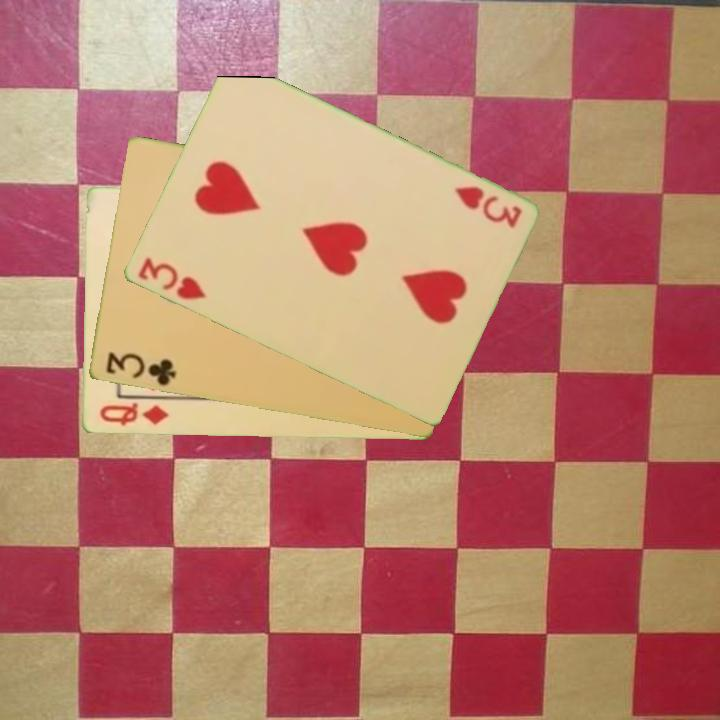3c: (102, 349, 178, 389)
3h: (133, 254, 209, 303), (450, 183, 524, 232)
Qd: (95, 399, 170, 429)
